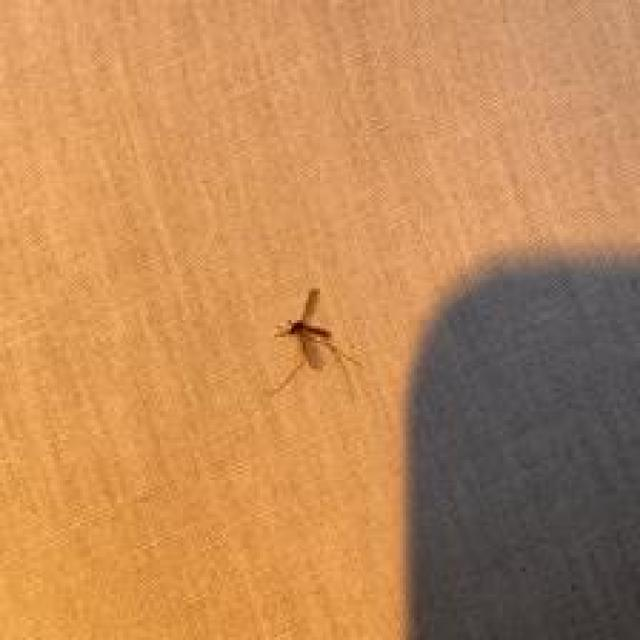Culex: (264, 286, 364, 403)
